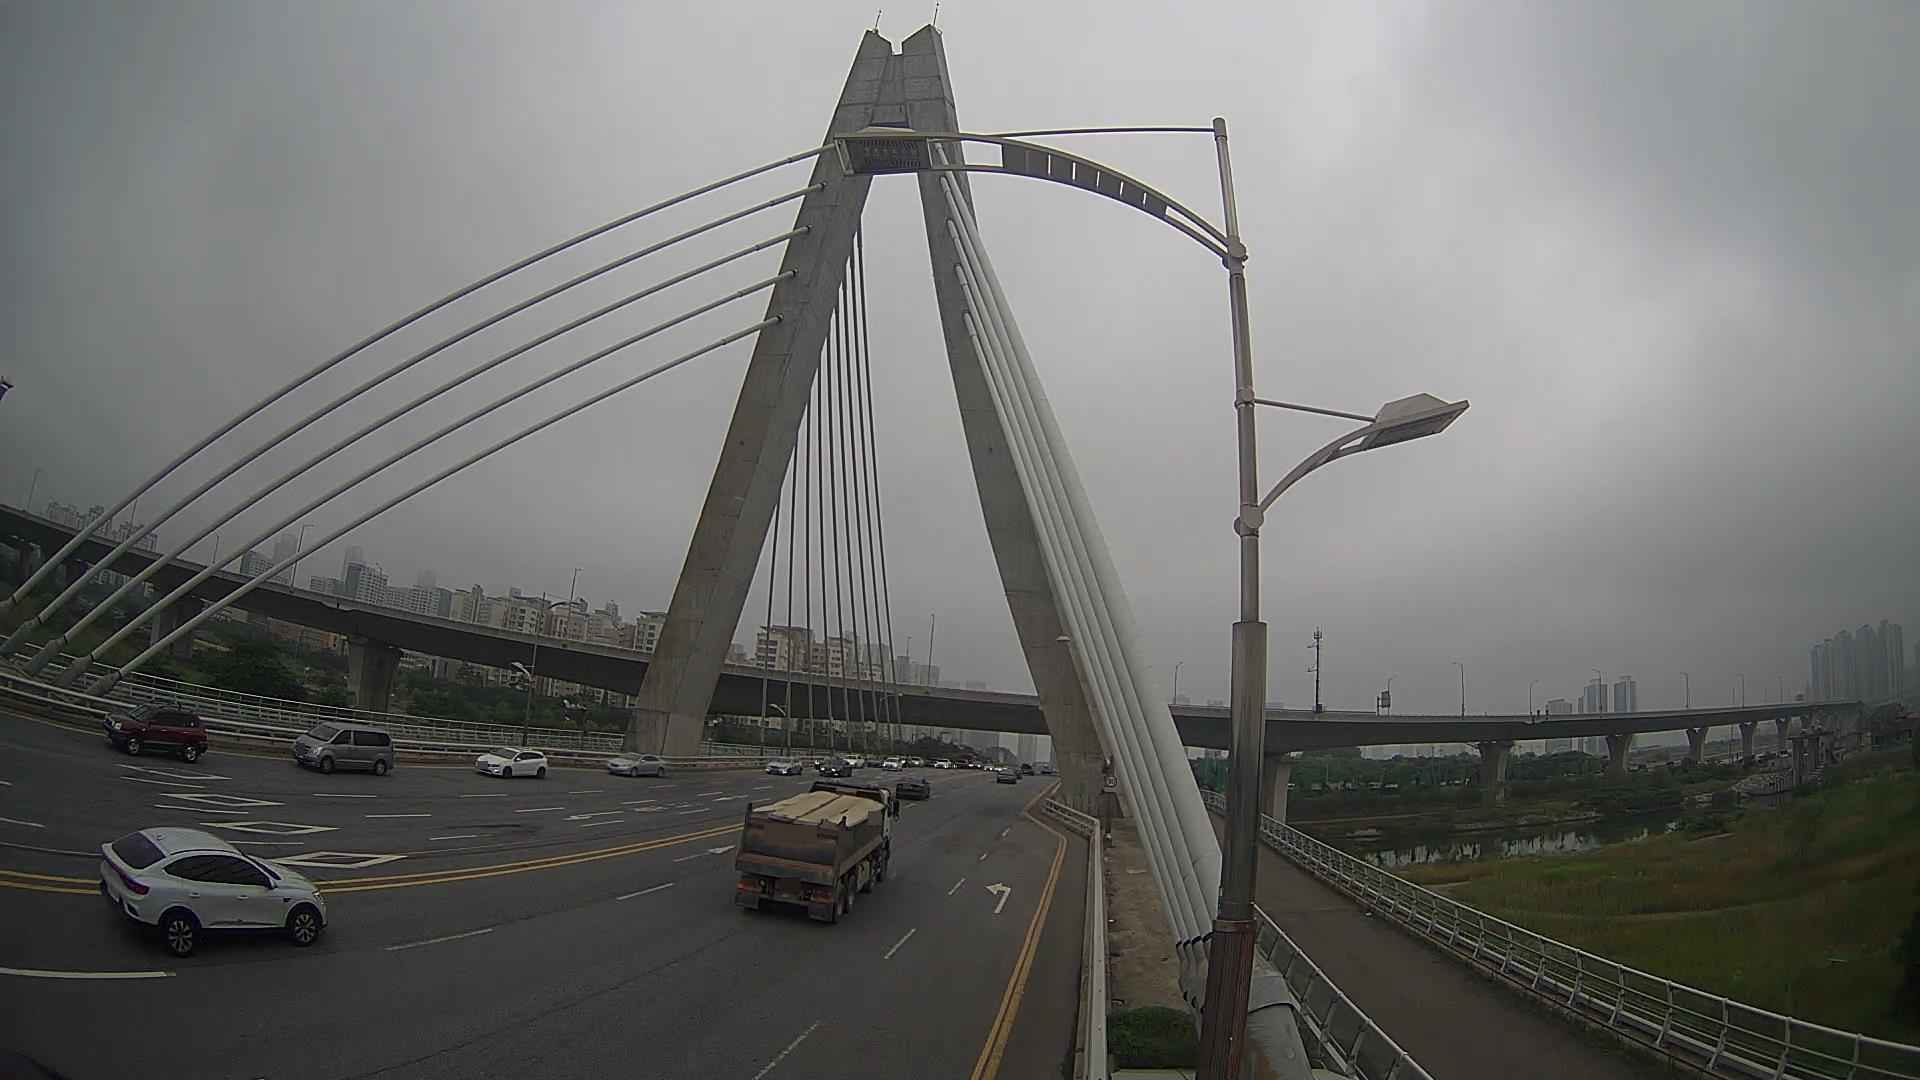정상차량: (735, 781, 899, 923)
